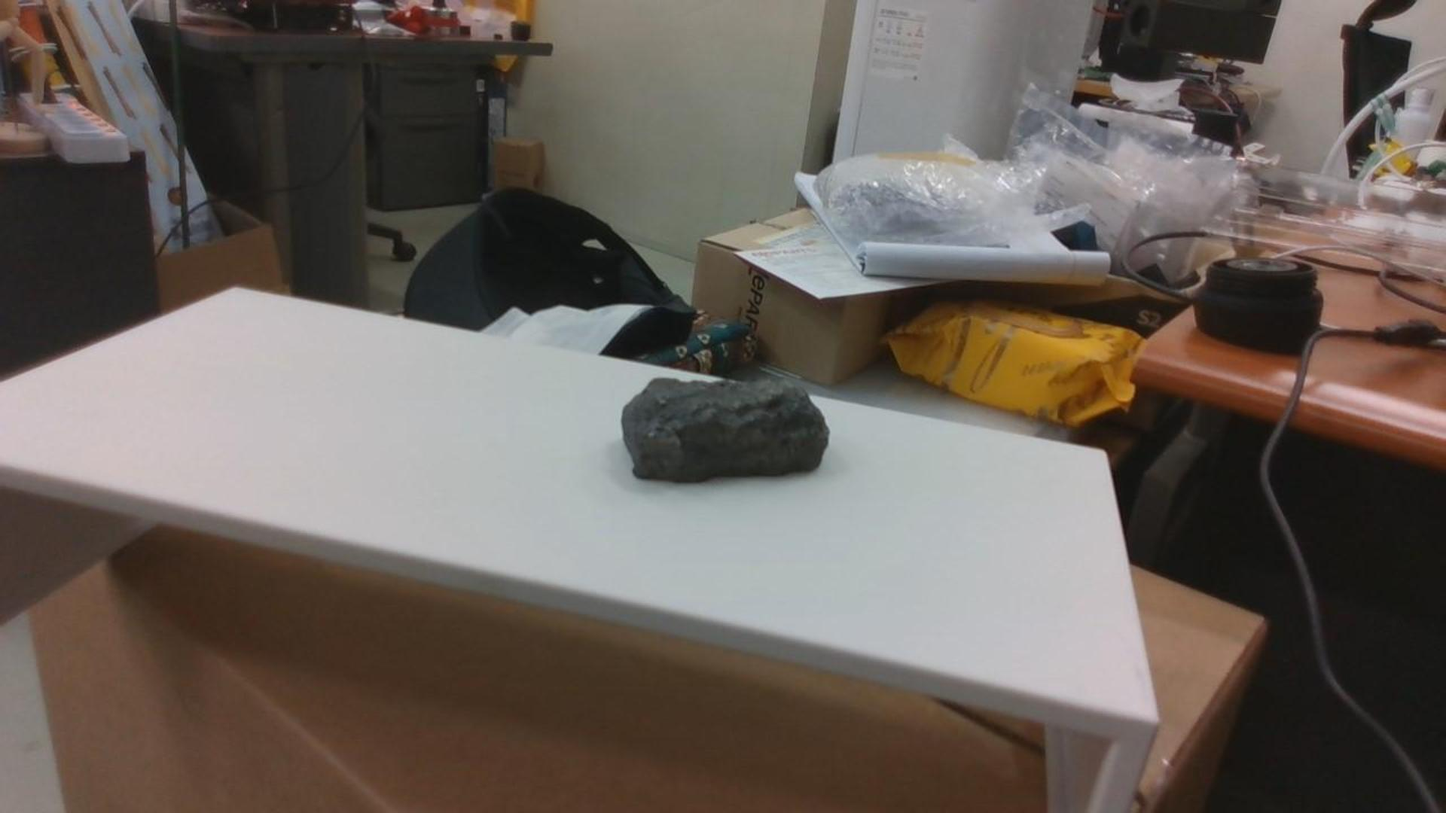rock: (621, 377, 828, 481)
